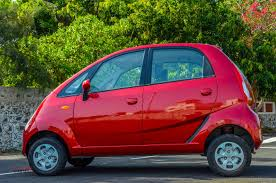Nano: (19, 41, 265, 176)
